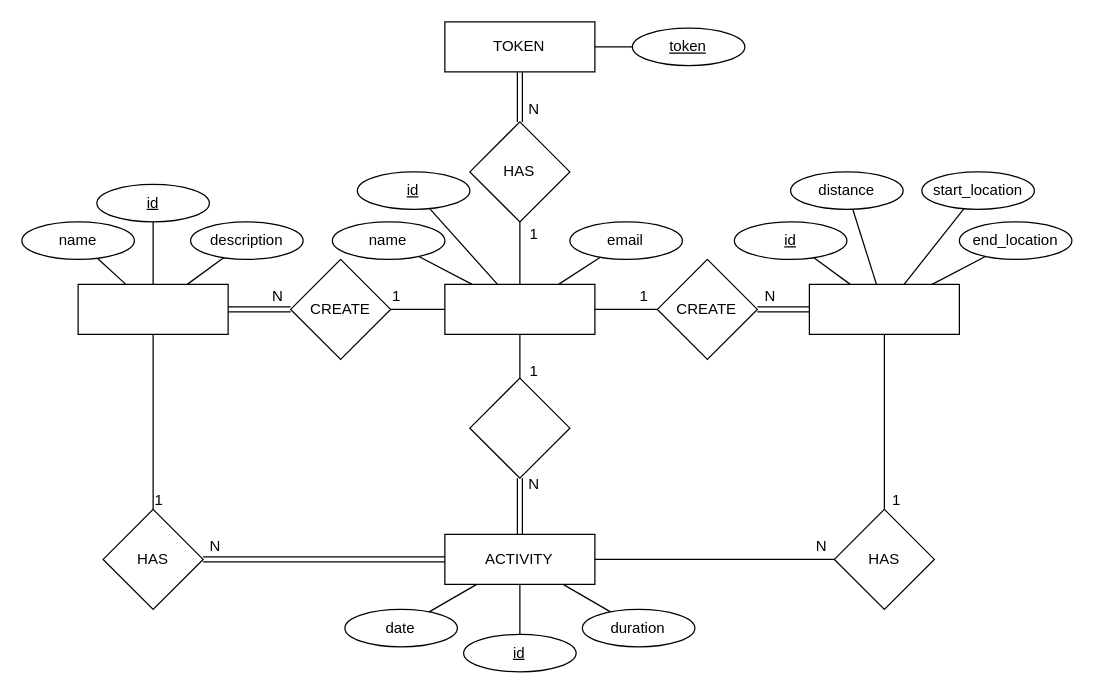
Some shapes in this 1094 by 694 pixel diagram are drawn without their labels. The box of each missing label's shape, as (x1, y1, x2, y2) in pixels:
PRATICE: (469, 377, 570, 478)
ROUTE: (808, 283, 959, 334)
SPORT: (77, 283, 228, 334)
USER: (444, 283, 595, 334)
